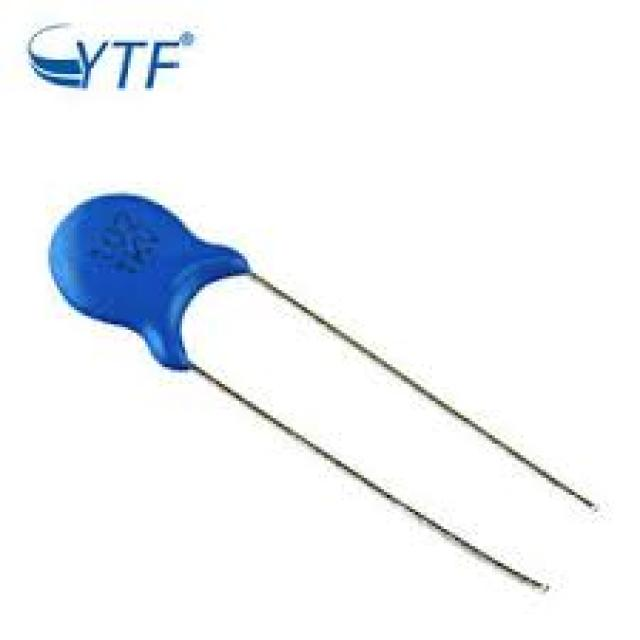Capacitor: (48, 196, 594, 592)
